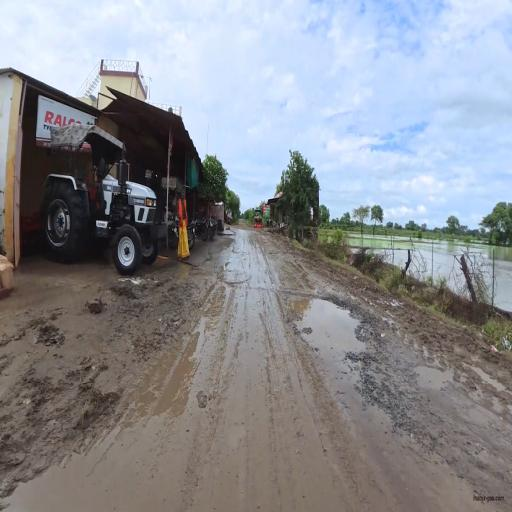pothole: (284, 259, 384, 394)
